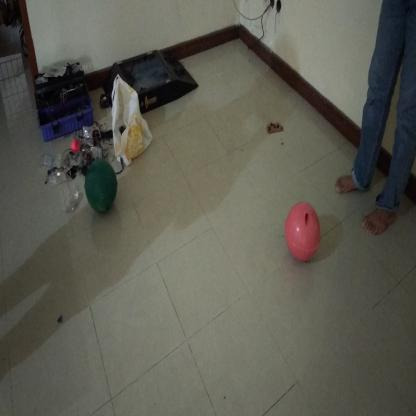green_buoy: (82, 157, 124, 217)
red_buoy: (284, 199, 322, 270)
